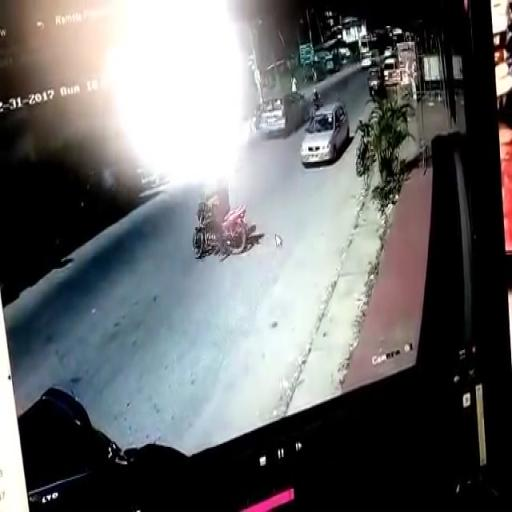小汽车: (304, 109, 345, 159), (267, 94, 307, 135), (368, 68, 382, 104), (382, 58, 395, 88)
自行车: (186, 171, 255, 263)
